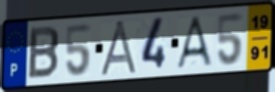4: (139, 15, 171, 75)
5: (215, 10, 244, 68), (64, 21, 92, 78)
A: (97, 19, 141, 78), (174, 14, 215, 71)
B: (26, 26, 61, 82)
